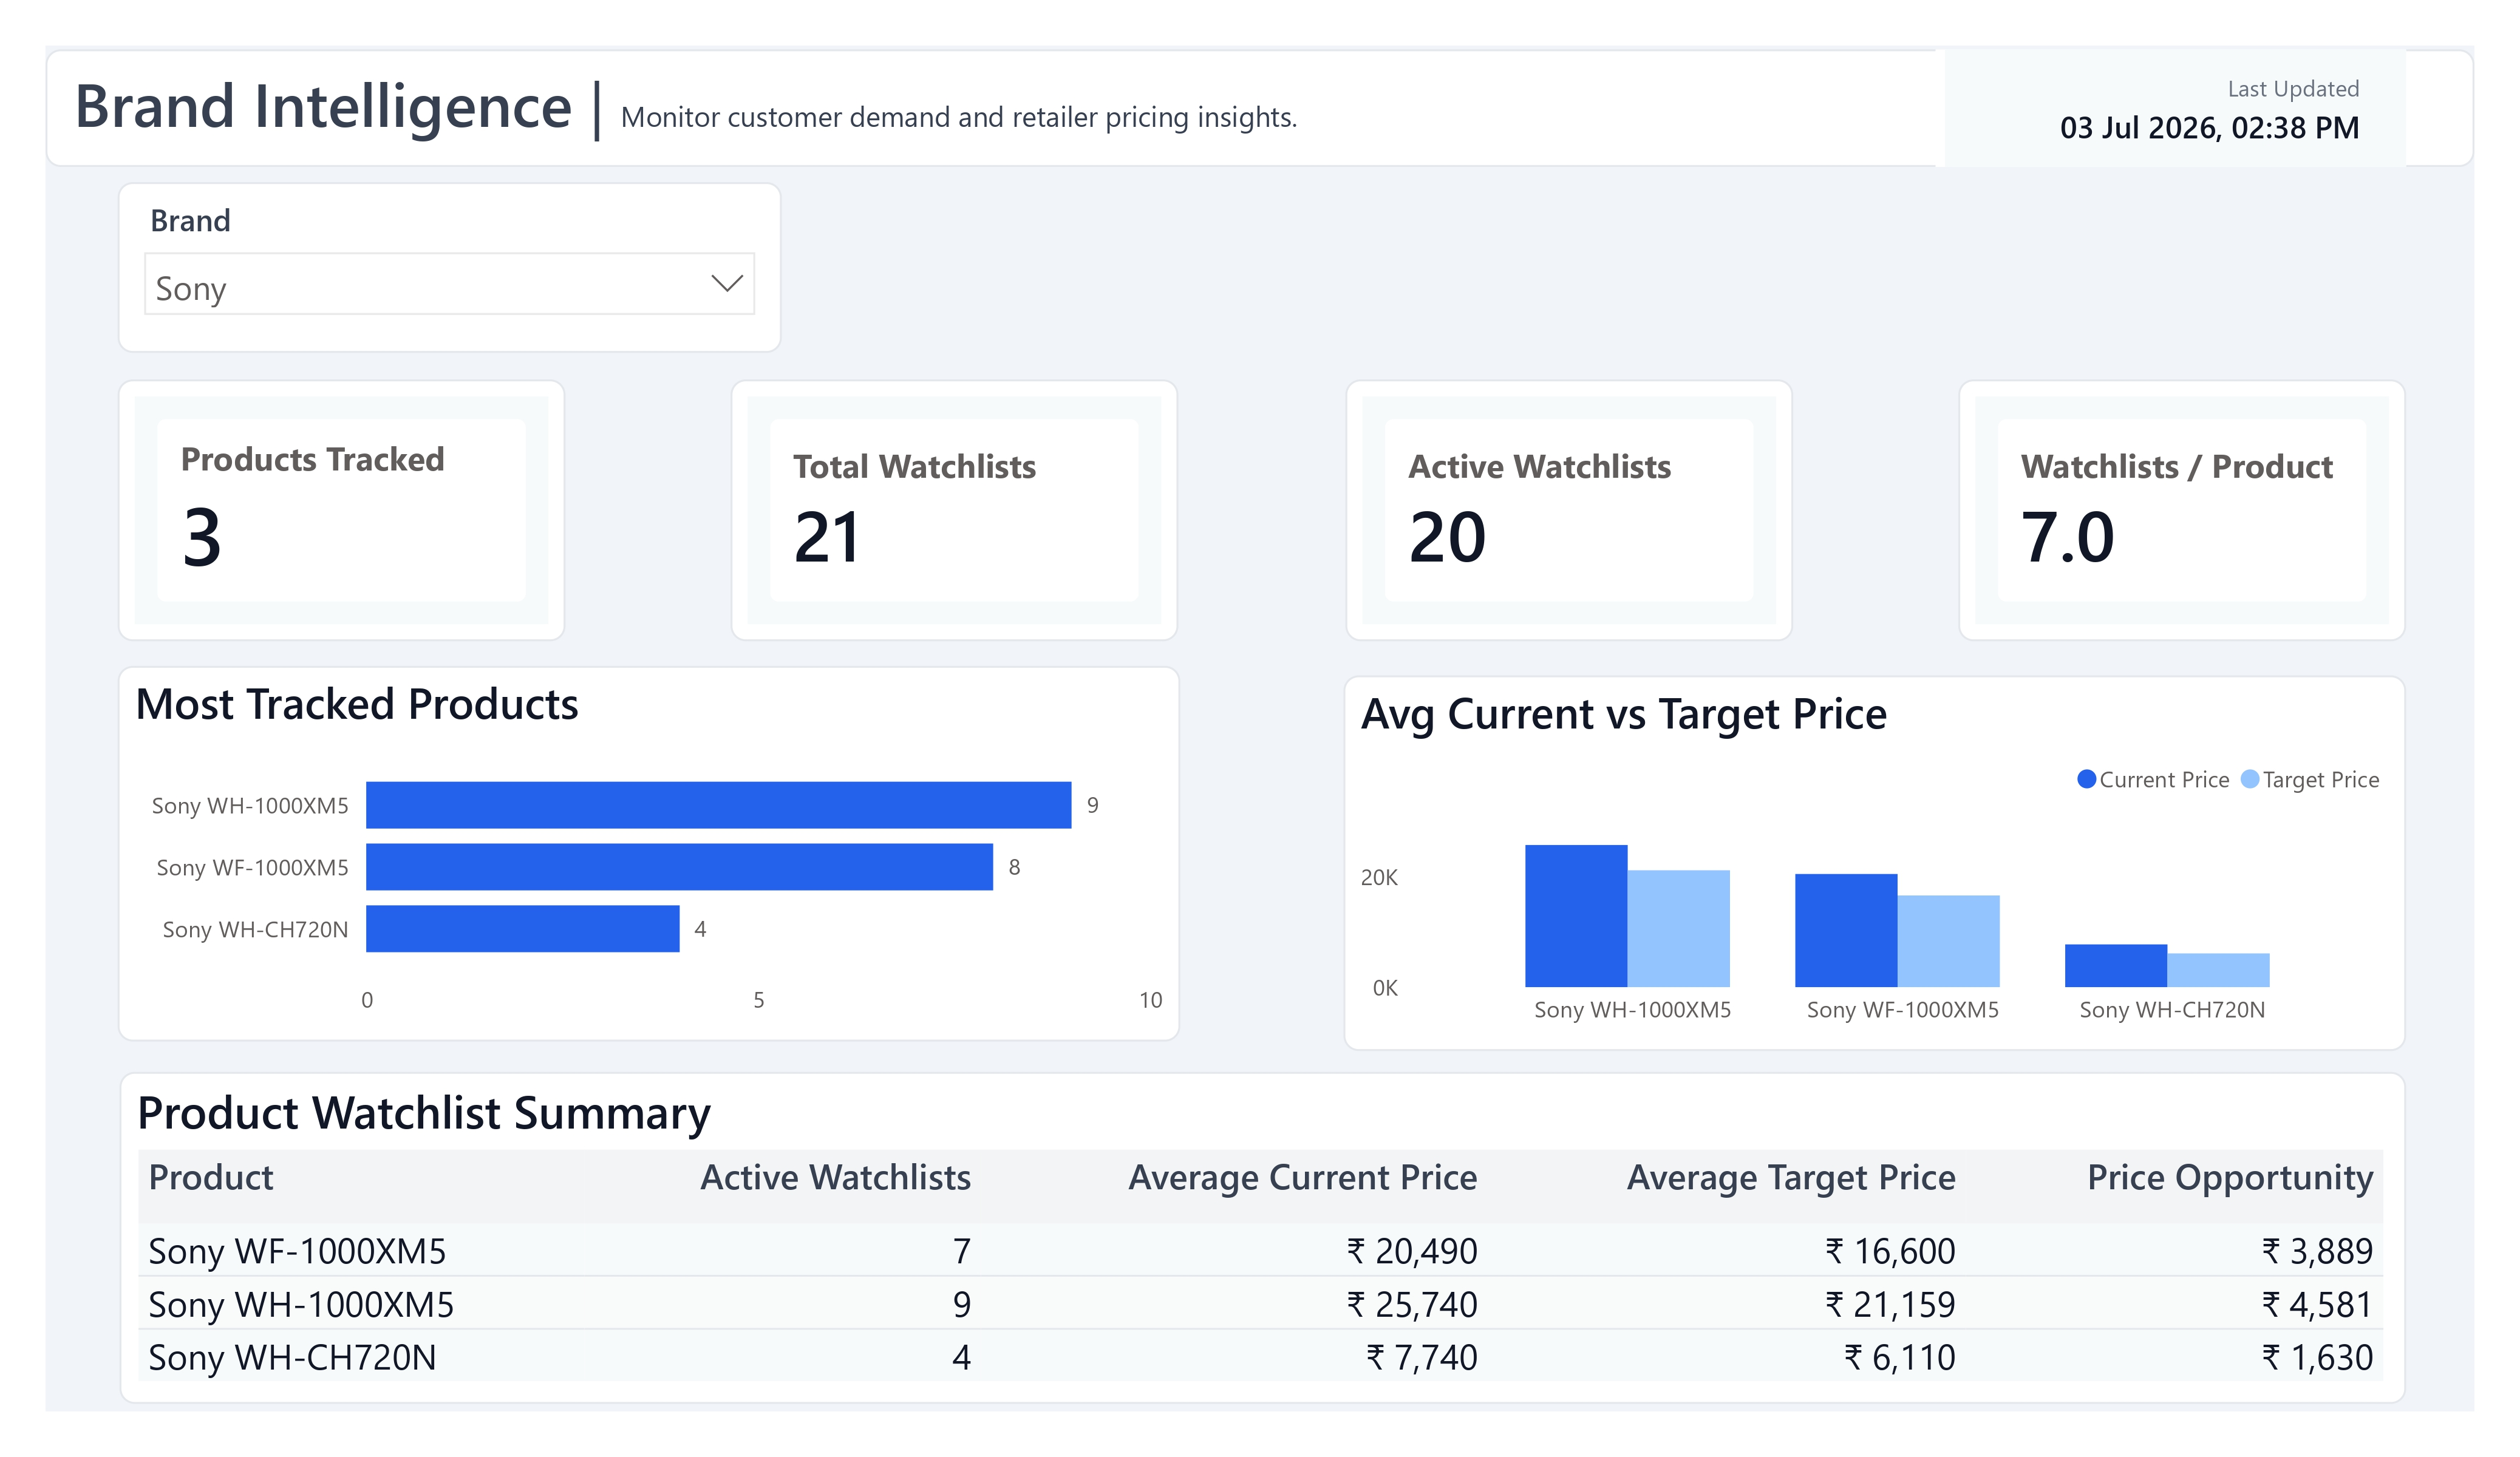

The page's visual inventory and layout, read from the dashboard file:
{"tool":"powerbi","page":{"name":"Brand Intelligence","canvas":[1280,720],"ordinal":1},"visuals":[{"type":"textbox","box":[0,2,1280,62],"z":0},{"type":"slicer","fields":{"Values":["Dim Brands.brand_name"]},"box":[38,71.5,350,90],"z":1000},{"type":"cardVisual","fields":{"Data":["Sum(Brand Demand Summary.total_products)"]},"box":[38,176,236,138],"z":2000},{"type":"cardVisual","fields":{"Data":["Max(Brand Demand Summary.total_watchlists)"]},"box":[361.3,176,236,138],"z":3000},{"type":"cardVisual","fields":{"Data":["Max(Brand Demand Summary.active_watchlists)"]},"box":[684.7,176,236,138],"z":4000},{"type":"cardVisual","fields":{"Data":["Brand Demand Summary.Avg Watchlists per Product"]},"box":[1008,176,236,138],"z":5000},{"type":"barChart","title":"Most Tracked Products","fields":{"Category":["Watchlist Summary.product_name"],"Y":["Sum(Watchlist Summary.total_watchlists)"]},"box":[38,326.5,560,198],"z":6000},{"type":"clusteredColumnChart","title":"Avg Current vs Target Price","fields":{"Category":["Watchlist Summary.product_name"],"Y":["Avg(Watchlist Summary.current_average_price)","Avg(Watchlist Summary.average_target_price)"]},"box":[684,332,560,198],"z":7000},{"type":"tableEx","title":"Product Watchlist Summary","fields":{"Values":["Watchlist Summary.product_name","Sum(Watchlist Summary.active_watchlists)","Sum(Watchlist Summary.current_average_price)","Sum(Watchlist Summary.average_target_price)","Sum(Watchlist Summary.price_gap)"]},"box":[38.6,541.4,1205.7,174.3],"z":8000},{"type":"cardVisual","fields":{"Data":["Price History.Last Refresh Display"]},"box":[996,2,248,62],"z":9500}]}

Visuals, with their boxes on the page's 1280x720 design canvas (x1, y1, x2, y2). These are canvas units, not pixel positions in the 2520x1457 screenshot, which may show the page scaled, cropped or inside an application window:
textbox: <box>0,2,1280,64</box>
slicer - Dim Brands.brand_name: <box>38,72,388,162</box>
cardVisual - Sum(Brand Demand Summary.total_products): <box>38,176,274,314</box>
cardVisual - Max(Brand Demand Summary.total_watchlists): <box>361,176,597,314</box>
cardVisual - Max(Brand Demand Summary.active_watchlists): <box>685,176,921,314</box>
cardVisual - Brand Demand Summary.Avg Watchlists per Product: <box>1008,176,1244,314</box>
"Most Tracked Products" barChart: <box>38,326,598,524</box>
"Avg Current vs Target Price" clusteredColumnChart: <box>684,332,1244,530</box>
"Product Watchlist Summary" tableEx: <box>39,541,1244,716</box>
cardVisual - Price History.Last Refresh Display: <box>996,2,1244,64</box>
